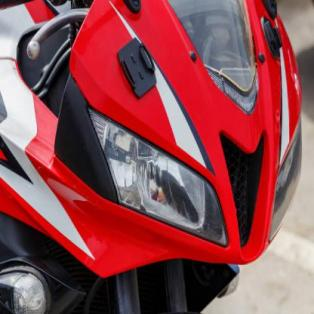Motocicleta: (0, 0, 308, 313)
